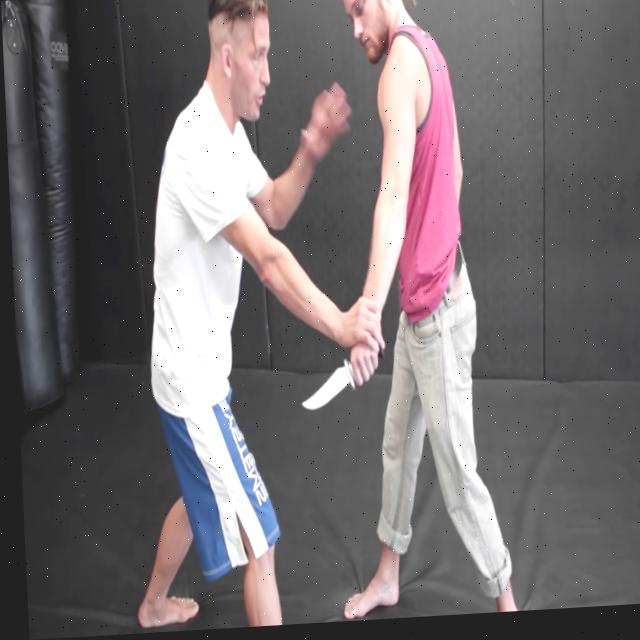knife: (295, 362, 351, 415)
